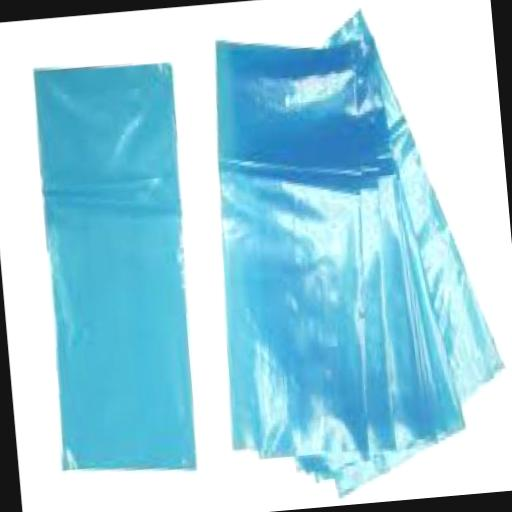plastic: (278, 50, 472, 502), (198, 33, 394, 474), (260, 46, 442, 490), (324, 2, 511, 416), (28, 58, 208, 484)
